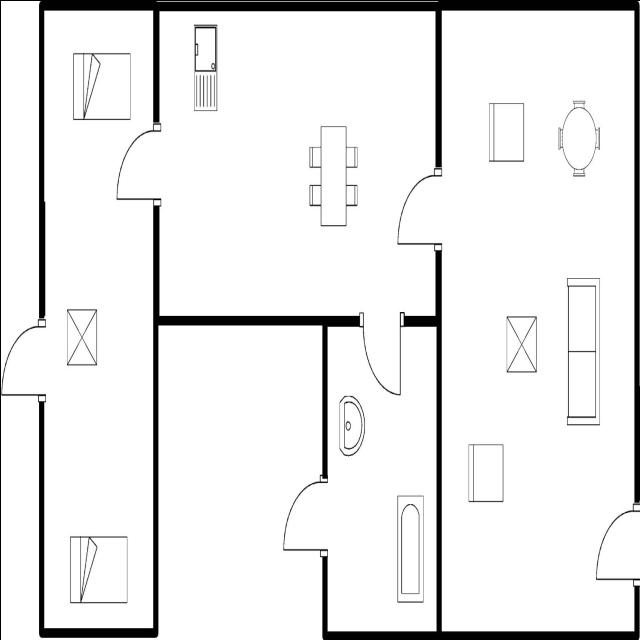bed: (66, 528, 132, 610), (68, 44, 134, 126)
coffee_table: (62, 302, 100, 371), (502, 309, 540, 377)
dining_table: (307, 120, 361, 232)
large_sofa: (564, 272, 602, 432)
round_table: (554, 96, 604, 182)
sink: (189, 19, 221, 117)
small_sink: (336, 390, 367, 462)
small_sofa: (485, 96, 527, 169), (466, 441, 506, 506)
tub: (394, 486, 427, 610)
